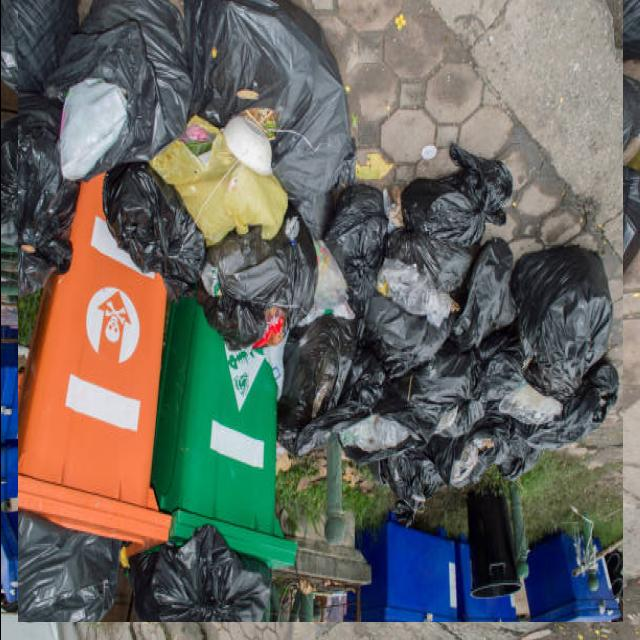garbage: (8, 0, 631, 613)
